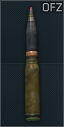OFZ 30x160mm shell: (0, 0, 64, 127)
